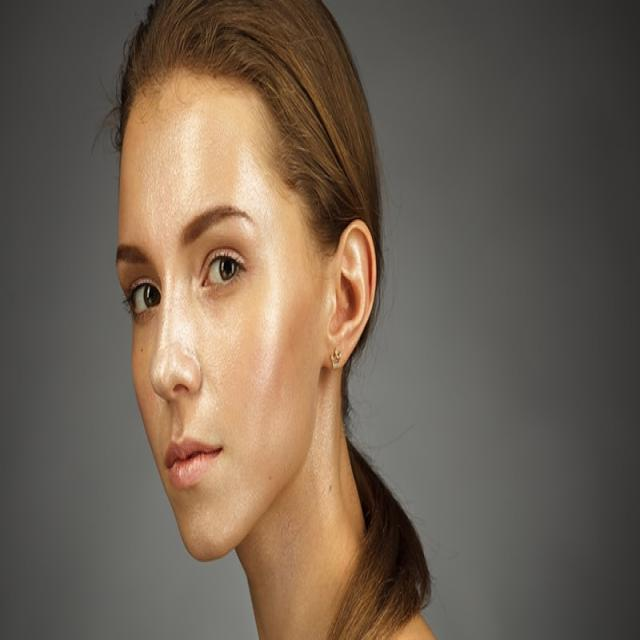Oily-Skin: (121, 110, 198, 243), (152, 274, 202, 396), (232, 146, 280, 234), (259, 245, 283, 403)
